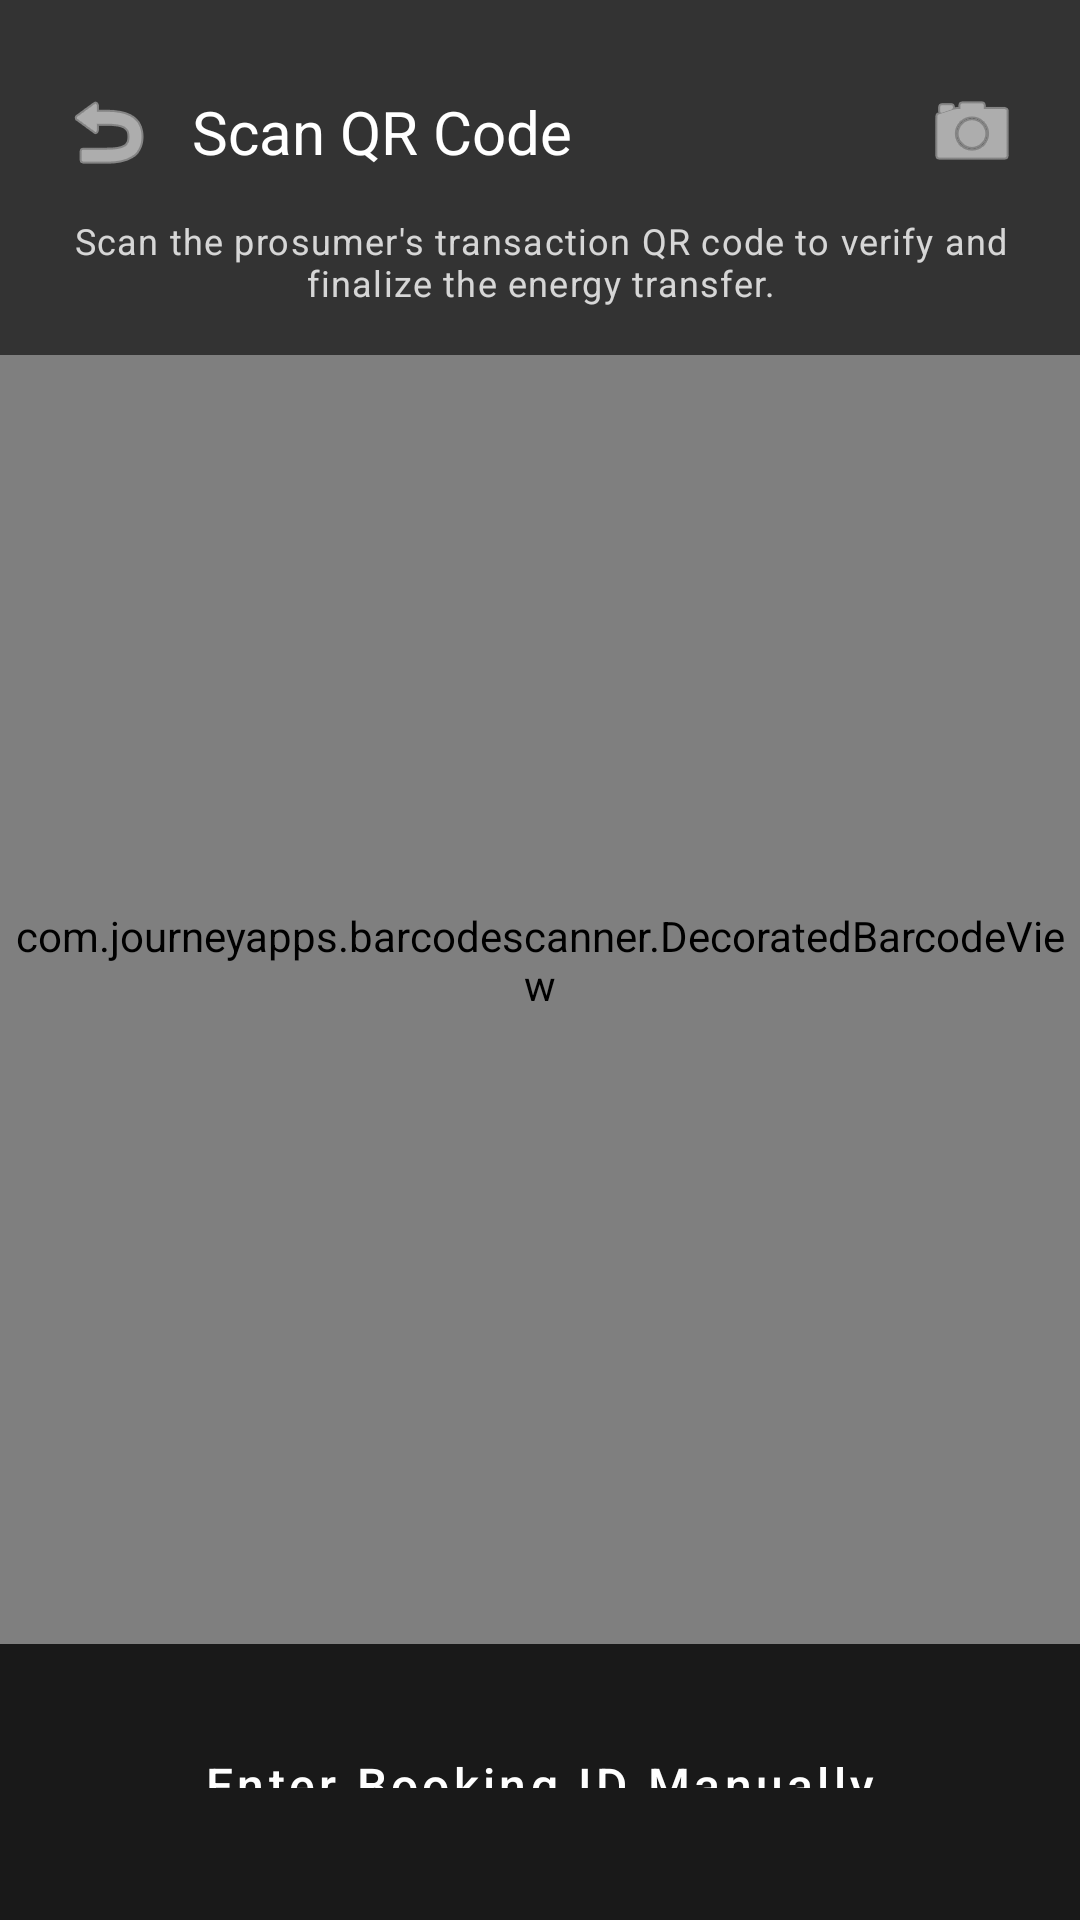

Where to tap for icons on this 1080*1920 app screen, as [x,y]:
Go Back: [109,132]
